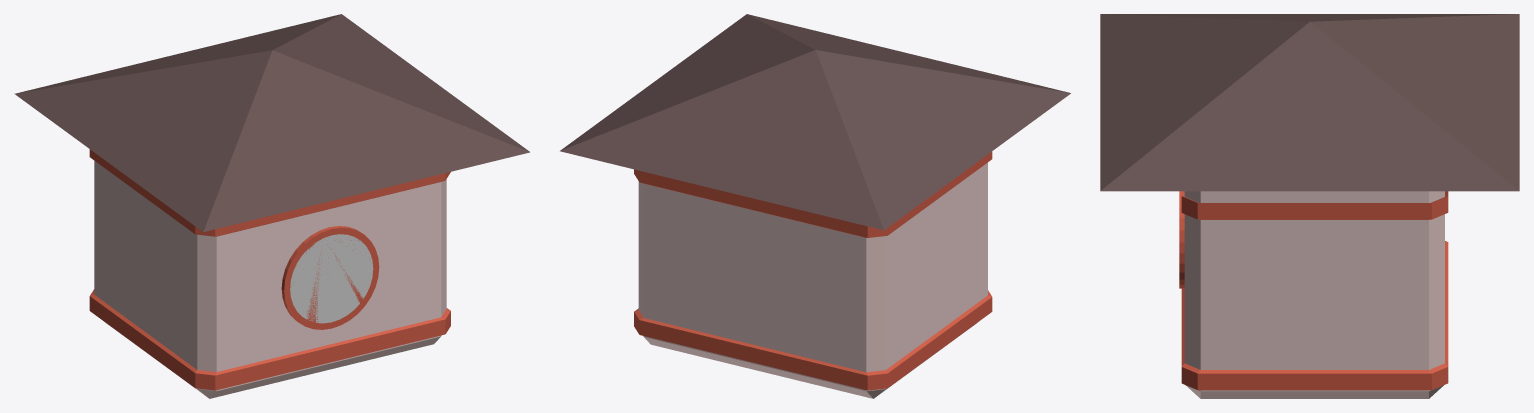
Rendered from House 2.fbx.
The picture shows the model from 3 angles, left to right: view 1: azimuth 30°, elevation 25°; view 2: azimuth 150°, elevation 25°; view 3: azimuth 270°, elevation 25°; orthographic projection. The views are drawn at different scales.
Visible parts, largest first — view 1: Cube; view 2: Cube; view 3: Cube.
Part boxes in pixels (box(x1,y1,x2,y2)): Cube: box(14, 14, 529, 398); Cube: box(560, 14, 1070, 398); Cube: box(1100, 14, 1519, 398).
Size of the model in its own units: 543 by 453 by 543.
